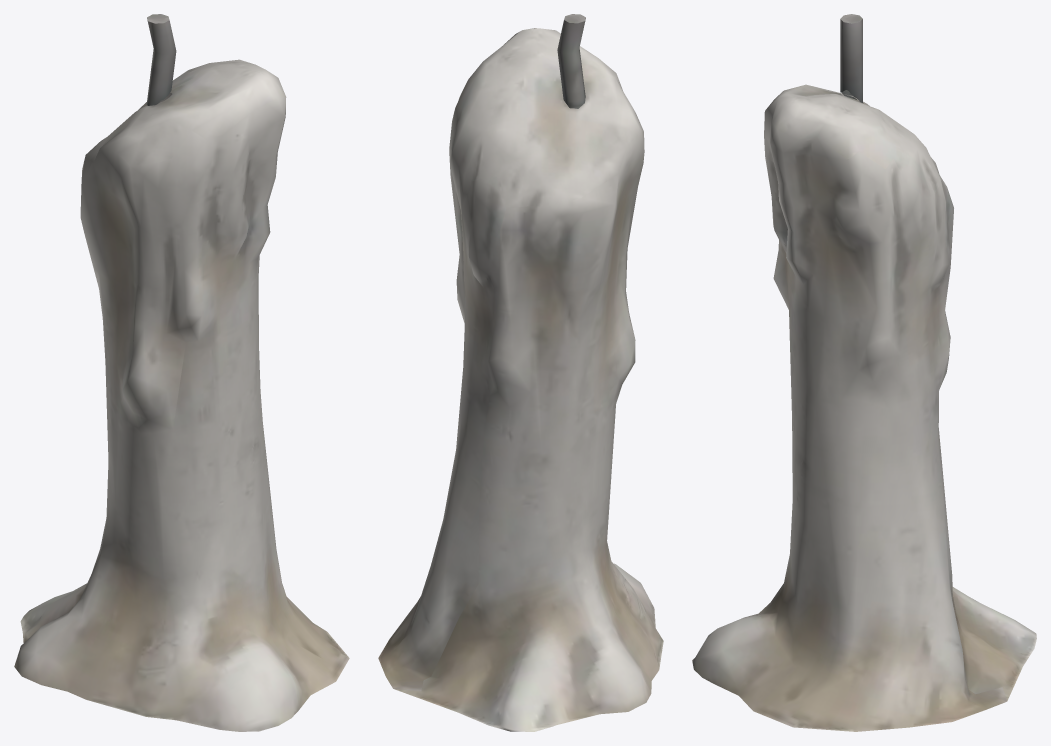
The picture shows the model from 3 angles, left to right: view 1: azimuth 30°, elevation 25°; view 2: azimuth 150°, elevation 25°; view 3: azimuth 270°, elevation 25°; orthographic projection. The views are drawn at different scales.
Parts seen in each view (by area): view 1: SM_Candle_01_v1_LOD0; view 2: SM_Candle_01_v1_LOD0; view 3: SM_Candle_01_v1_LOD0.
Part boxes in pixels (x1=…): SM_Candle_01_v1_LOD0: x1=14, y1=14, x2=349, y2=731; SM_Candle_01_v1_LOD0: x1=378, y1=14, x2=663, y2=731; SM_Candle_01_v1_LOD0: x1=692, y1=14, x2=1036, y2=731.
Size of the model in its own units: 0.096 by 0.218 by 0.1077.
Materials: 1 (1 with a texture image).
